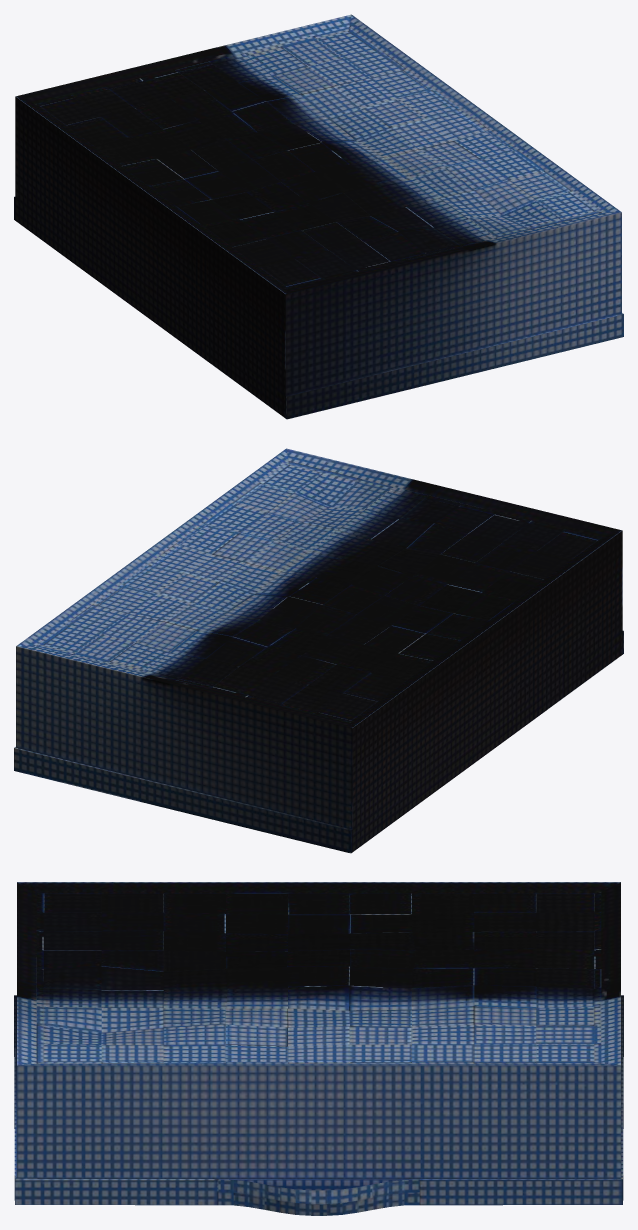
File: underbedStorage.glb
The picture shows the model from 3 angles, top to bottom: view 1: azimuth 30°, elevation 25°; view 2: azimuth 150°, elevation 25°; view 3: azimuth 270°, elevation 25°; orthographic projection. The views are drawn at different scales.
Visible parts, largest first — view 1: underBedStore; view 2: underBedStore; view 3: underBedStore.
Part boxes in pixels (box(x1,y1,x2,y2)): underBedStore: box(14, 14, 623, 419); underBedStore: box(14, 448, 623, 853); underBedStore: box(14, 882, 623, 1215).
Size of the model in its own units: 0.5441 by 0.18 by 0.7168.
1 material, 1 textured.
